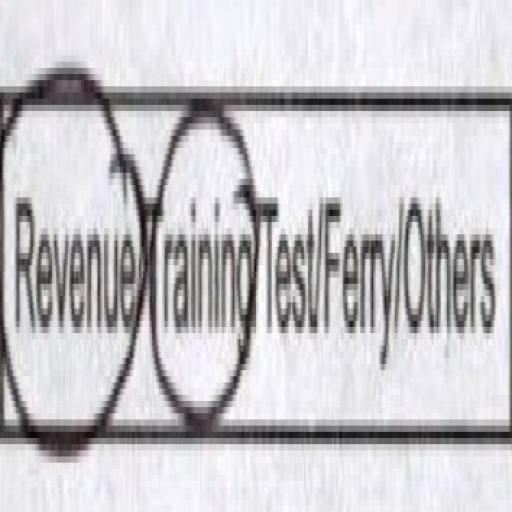check: (0, 25, 139, 475), (142, 27, 263, 471)
